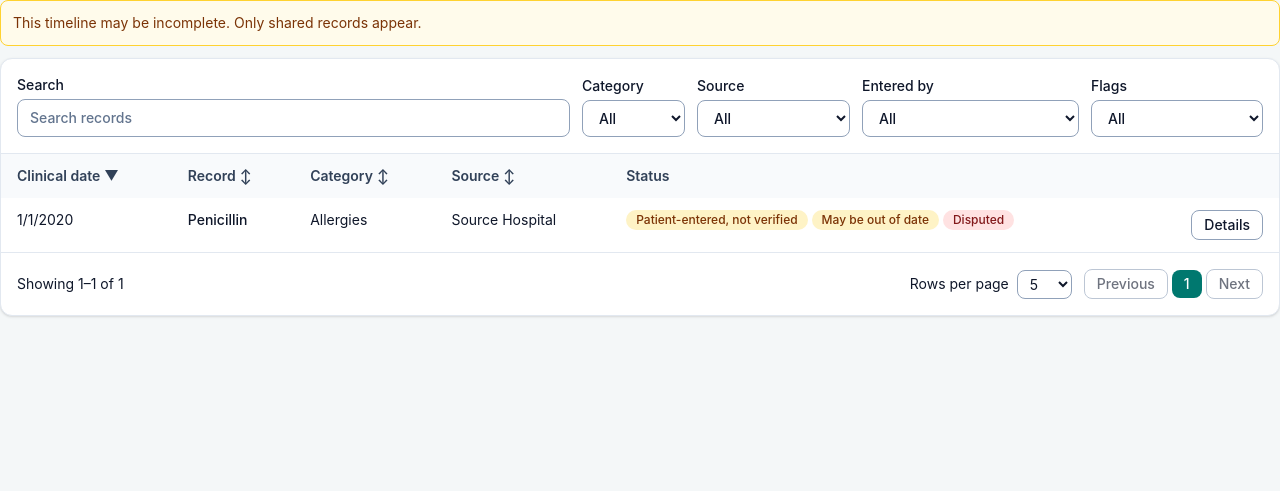
Test: MediPass screens › shows provenance, staleness, disputes and the incomplete-timeline notice
Click the button "Details": (1227, 225) top-left (1191, 210), bottom-right (1263, 240)
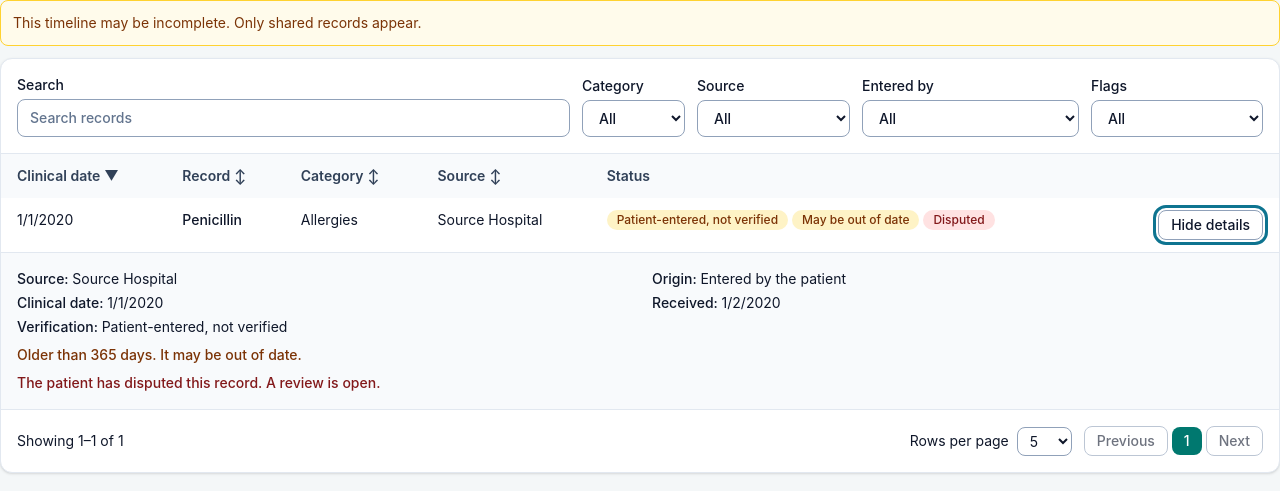
Check: the text "This timeline may be incomplete. Only shared records appear." is shown, box top-left (0, 0), bottom-right (1279, 46)
Check: the text "Older than 365 days. It may be out of date." is shown, box top-left (17, 346), bottom-right (302, 363)
Check: the text "The patient has disputed this record. A review is open." is shown, box top-left (17, 374), bottom-right (380, 391)
